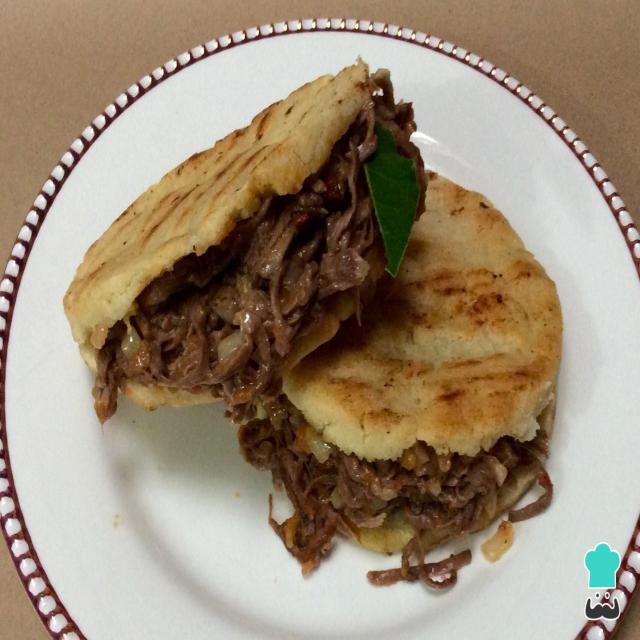arepa: (280, 147, 559, 455)
carne de res: (196, 253, 353, 337)
